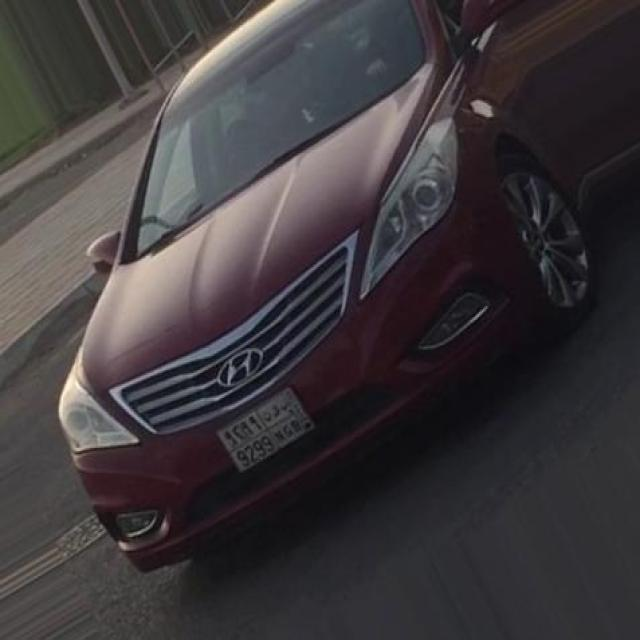Car-plate: (206, 378, 327, 487)
